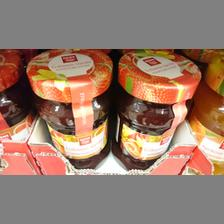Marmelade: (111, 51, 199, 168), (26, 48, 110, 168)
